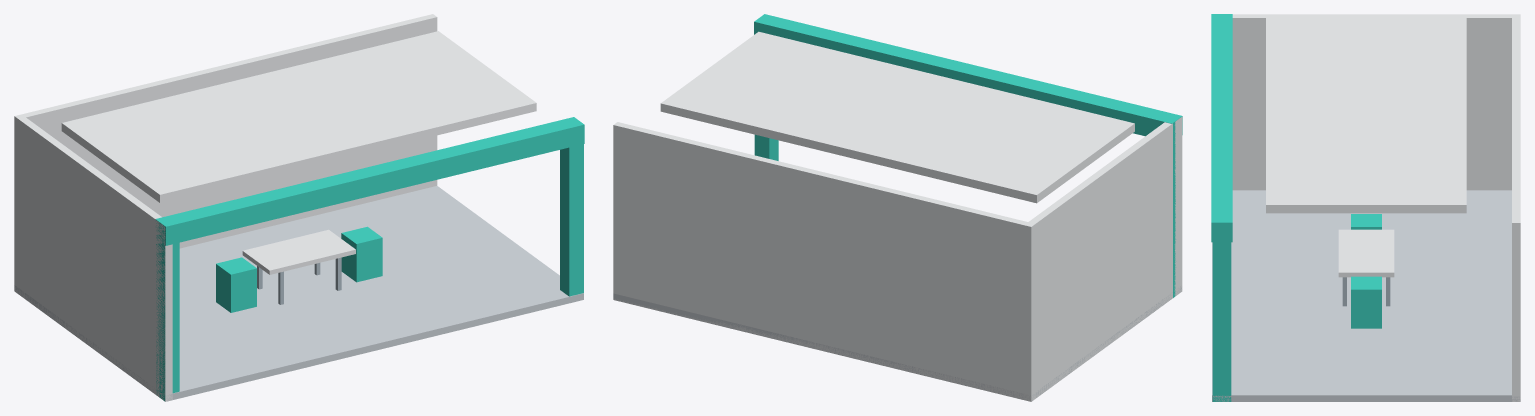
The picture shows the model from 3 angles, left to right: view 1: azimuth 30°, elevation 25°; view 2: azimuth 150°, elevation 25°; view 3: azimuth 270°, elevation 25°; orthographic projection. The views are drawn at different scales.
Parts seen in each view (by area): view 1: Exhibition Booth Concept; view 2: Exhibition Booth Concept; view 3: Exhibition Booth Concept.
Boxes of the visible parts, box(x1,y1,x2,y2) form: Exhibition Booth Concept: box(14, 14, 584, 401); Exhibition Booth Concept: box(613, 14, 1182, 401); Exhibition Booth Concept: box(1211, 14, 1520, 401).
Bounding box in the file's own units: 8 × 3.34 × 5.02.
